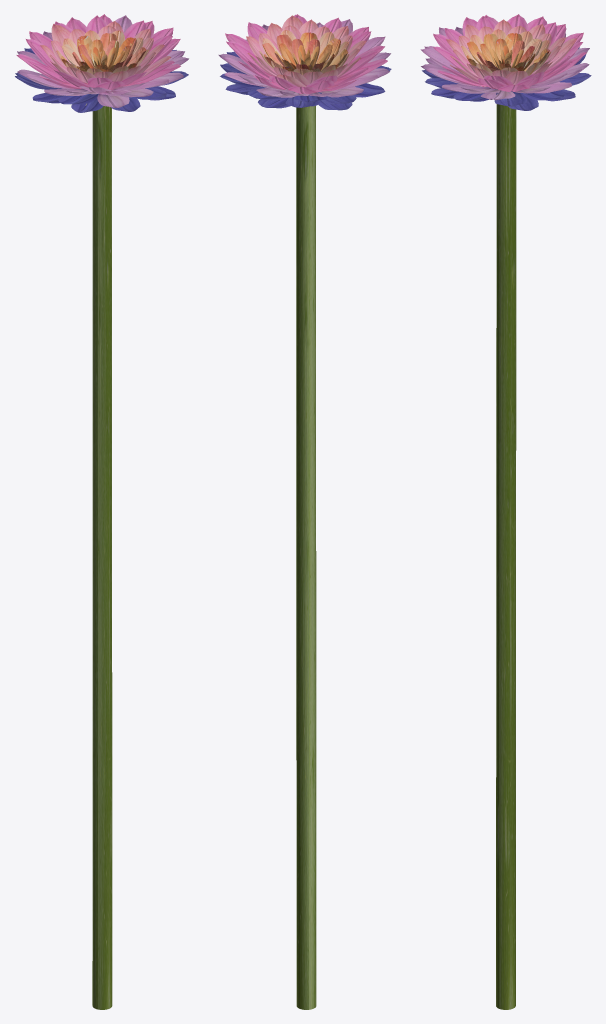
File: flor_09.fbx
3 views of the same model, side by side, from view 1: azimuth 30°, elevation 25°; view 2: azimuth 150°, elevation 25°; view 3: azimuth 270°, elevation 25° (orthographic).
Visible parts, largest first — view 1: Plane.068; view 2: Plane.068; view 3: Plane.068.
Boxes of the visible parts, x1,y1,x2,y2 form: Plane.068: (15,14,188,1009); Plane.068: (218,14,391,1009); Plane.068: (420,14,591,1009).
Bounding box in the file's own units: 117 × 707 × 114.
Materials: 2 (2 with a texture image).
